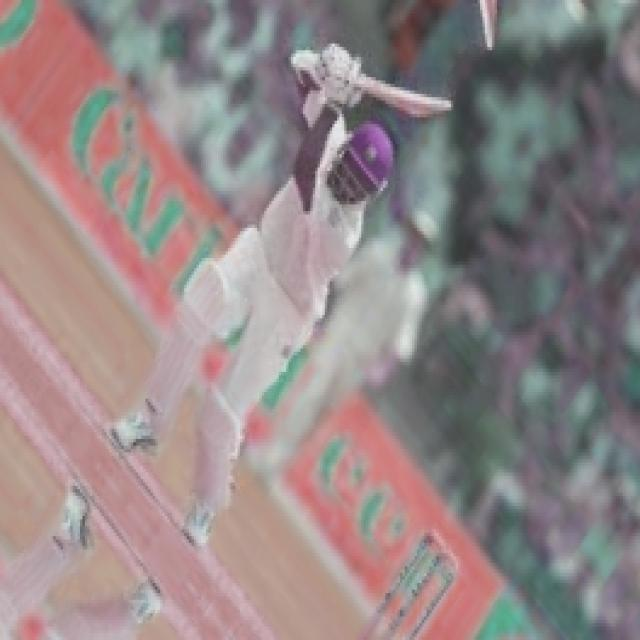bat: (351, 78, 459, 127)
